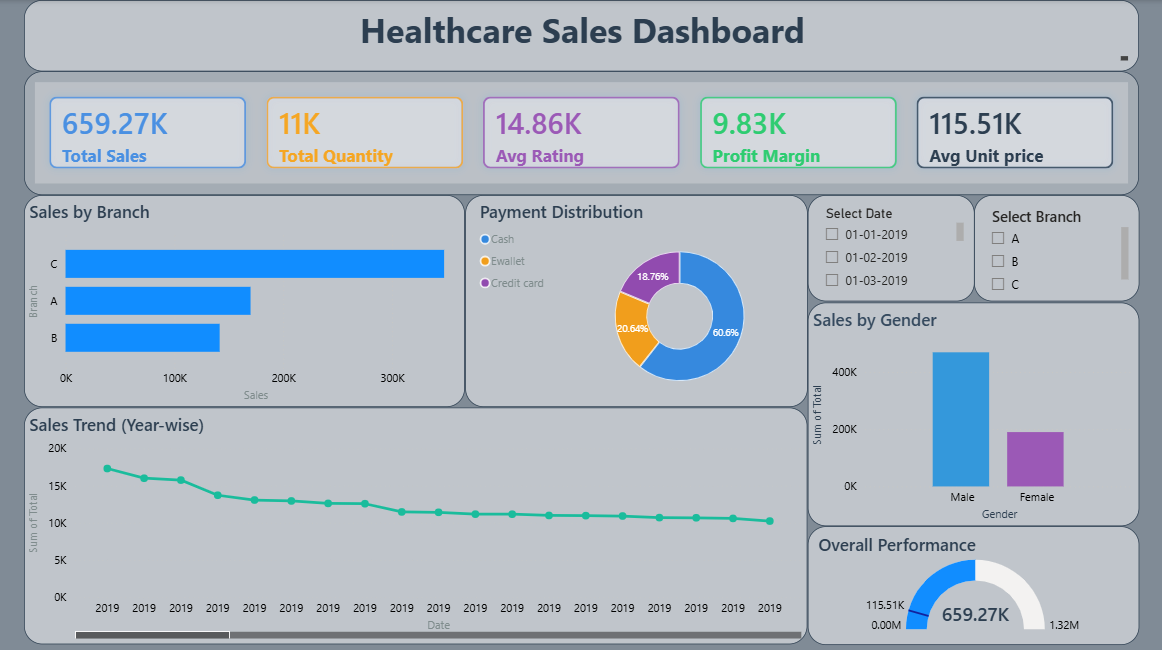

The dashboard page shown, as its layout file describes it:
{"tool":"powerbi","page":{"name":"Page 1","canvas":[1280,720],"ordinal":0},"visuals":[{"type":"textbox","title":"Healthcare Sales Dashboard","box":[27.1,0,1224.3,78.6],"z":0},{"type":"cardVisual","fields":{"Data":["Sum(Data (2).Total)","Sum(Data (2).Quantity)","Sum(Data (2).Rating)","Sum(Data (2).gross margin percentage)","Sum(Data (2).Unit price)"]},"box":[27.9,78.6,1224.3,135.7],"z":1000},{"type":"barChart","title":"Sales  by Branch","fields":{"Category":["Data (2).Branch"],"Y":["Sum(Data (2).Total)"]},"box":[27.1,214.3,484.3,232.9],"z":2000},{"type":"donutChart","title":"Payment Distribution","fields":{"Category":["Data (2).Payment"],"Y":["Sum(Data (2).Total)"]},"box":[511.4,214.3,375.7,232.9],"z":3000},{"type":"clusteredColumnChart","title":"Sales by Gender","fields":{"Y":["Sum(Data (2).Total)"],"Category":["Data (2).Gender"]},"box":[887.1,331.4,364.3,245.7],"z":4000},{"type":"lineChart","title":"Sales Trend (Year-wise)","fields":{"Y":["Sum(Data (2).Total)"],"Category":["Data (2).Date"]},"box":[27.1,447.1,860,260],"z":5000},{"type":"slicer","title":"Filter by Date","fields":{"Values":["Data.Branch"]},"box":[1070,214.3,181.4,117.1],"z":6000},{"type":"gauge","title":"Overall Performance","fields":{"TargetValue":["Sum(Data (2).Unit price)"],"Y":["Sum(Data (2).Total)"]},"box":[887.1,577.1,364.3,130],"z":7000},{"type":"slicer","fields":{"Values":["Data.Date"]},"box":[887.1,214.3,182.9,117.1],"z":8000}]}

Visuals, with their boxes in screenshot pixels (x1, y1, x2, y2), scaled from the page's 1280x720 canvas onto the 1162x650 screenshot:
"Healthcare Sales Dashboard" textbox: bbox(25, 0, 1136, 71)
cardVisual - Sum(Data (2).Total) x Sum(Data (2).Quantity): bbox(25, 71, 1137, 193)
"Sales  by Branch" barChart: bbox(25, 193, 464, 404)
"Payment Distribution" donutChart: bbox(464, 193, 805, 404)
"Sales by Gender" clusteredColumnChart: bbox(805, 299, 1136, 521)
"Sales Trend (Year-wise)" lineChart: bbox(25, 404, 805, 638)
"Filter by Date" slicer: bbox(971, 193, 1136, 299)
"Overall Performance" gauge: bbox(805, 521, 1136, 638)
slicer - Data.Date: bbox(805, 193, 971, 299)
